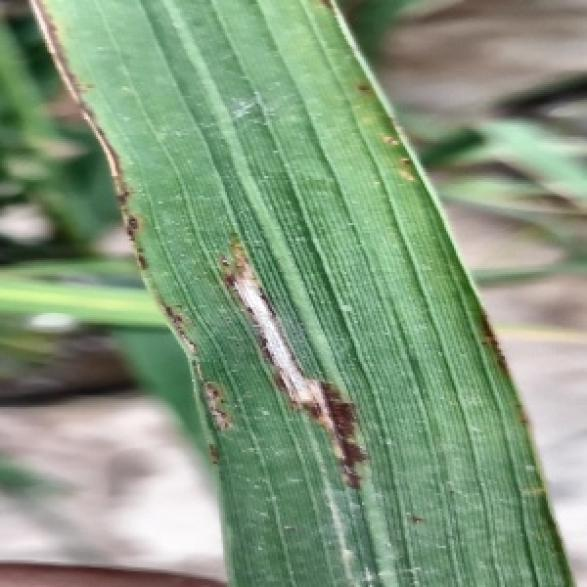Leaf_smut: (122, 250, 390, 503)
